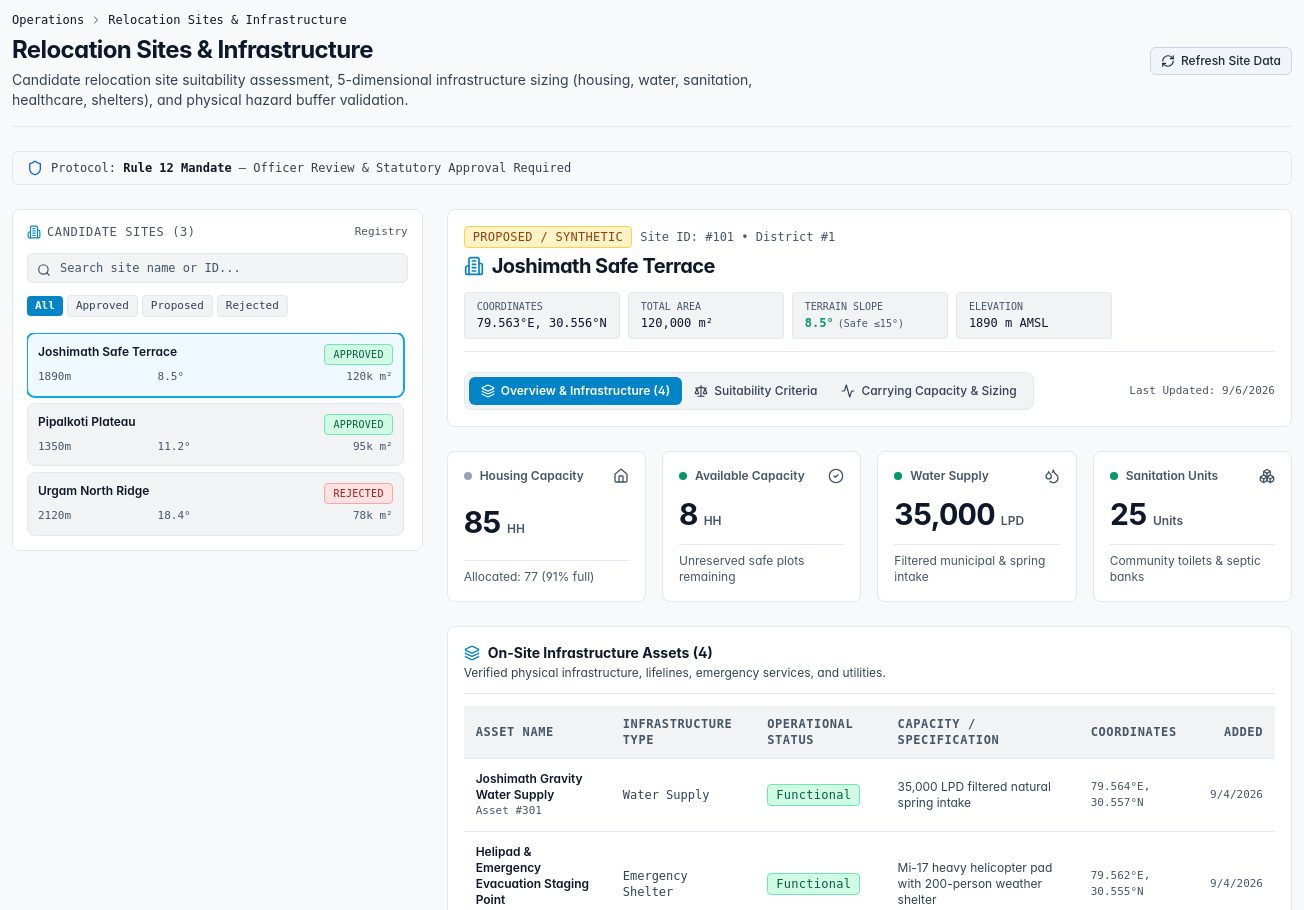
Test: Relocation Site Details & Infrastructure UI Suite (Chunk M6-03) › Site Selection & Unsuitable / Rejected Site Inspection › switches to Pipalkoti Plateau when clicked in selector
# Click Pipalkoti Plateau button in selector
What coordinates should you click on to do the following:
click the button "Pipalkoti Plateau approved 1350m 11.2° 95k m²"
I would click on:
 (87, 421)
Its box is [27,402,404,466].
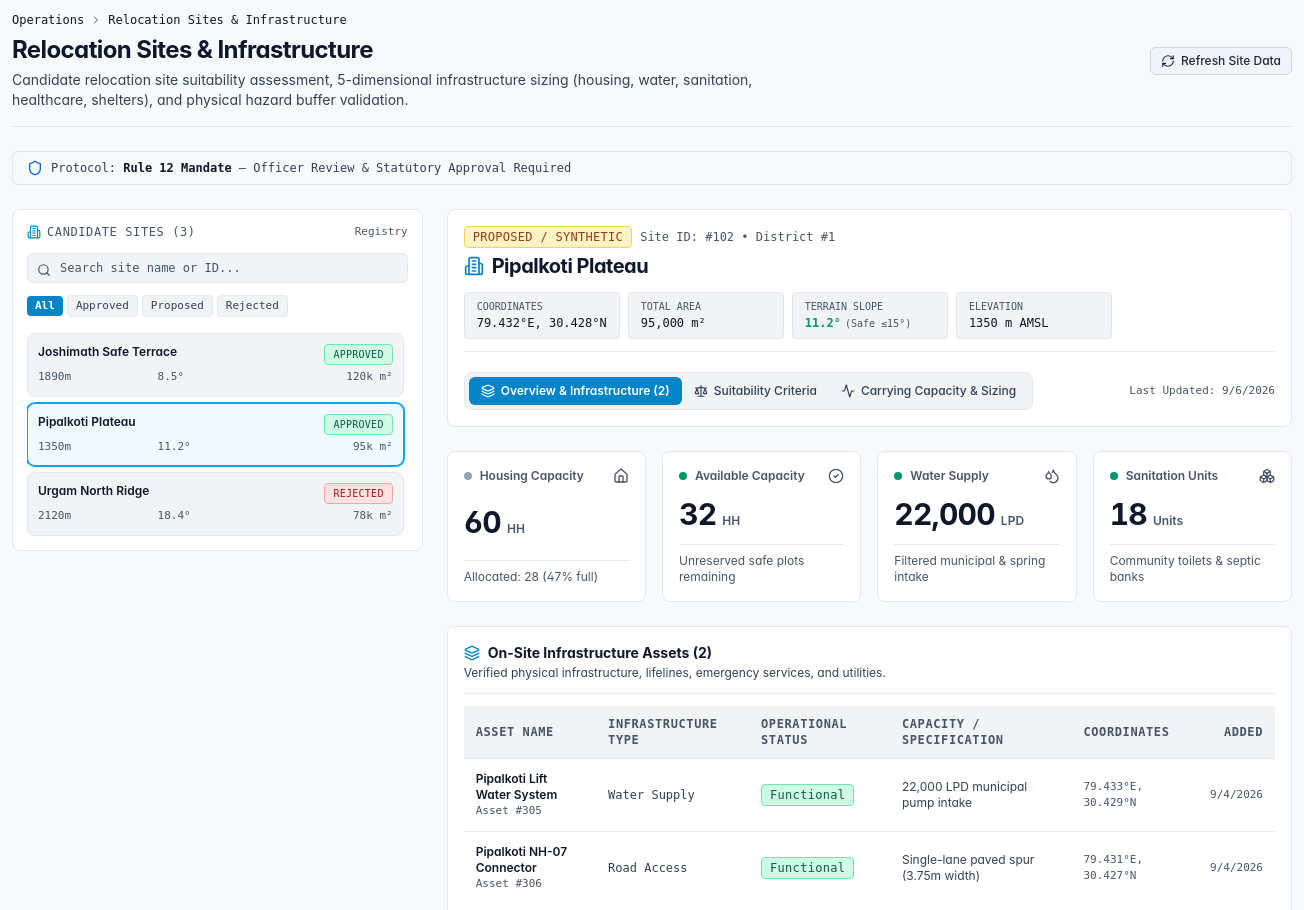
Expected: the text "79.432°E, 30.428°N" is shown, [477,316,607,330]
Expected: the text "95,000 m²" is shown, [641,316,706,330]
Expected: the text "1350 m AMSL" is shown, [969,316,1048,330]
